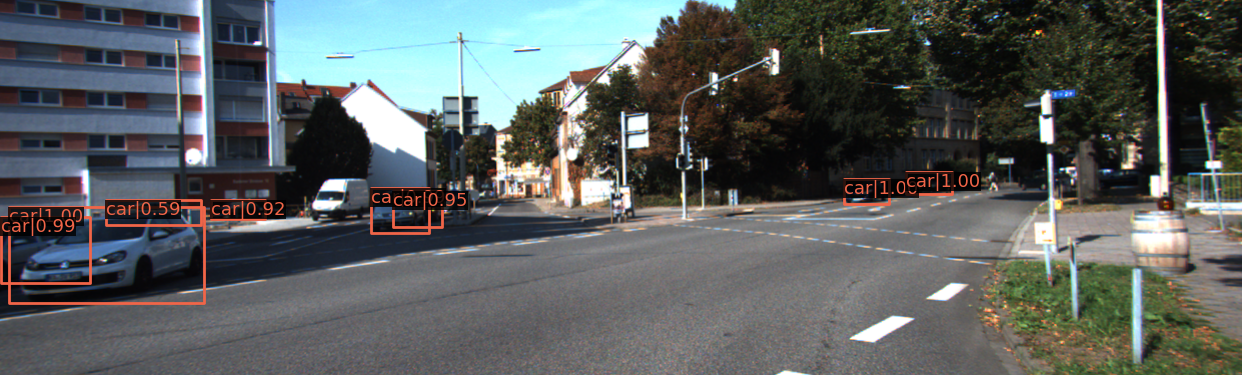car: (18, 207, 208, 305), (372, 189, 425, 234), (112, 202, 199, 227), (843, 180, 887, 204)
